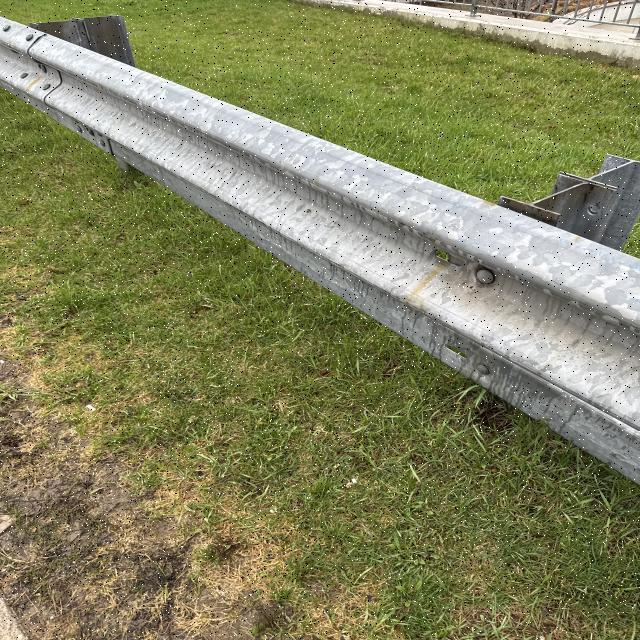Guard rail: (0, 34, 610, 451)
